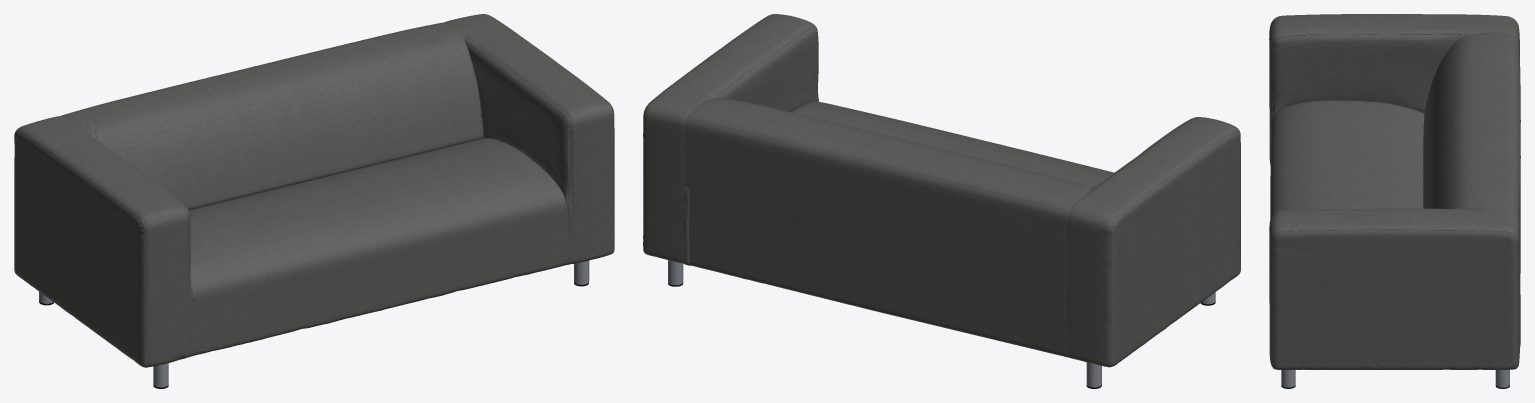
3 views of the same model, side by side, from view 1: azimuth 30°, elevation 25°; view 2: azimuth 150°, elevation 25°; view 3: azimuth 270°, elevation 25° (orthographic). The views are drawn at different scales.
Parts seen in each view (by area): view 1: GLTF; view 2: GLTF; view 3: GLTF.
Boxes of the visible parts, x1,y1,x2,y2 form: GLTF: (14, 14, 614, 388); GLTF: (643, 14, 1240, 388); GLTF: (1269, 14, 1520, 388).
Bounding box in the file's own units: 1.8 × 0.66 × 0.88.
1 material, 1 textured.
